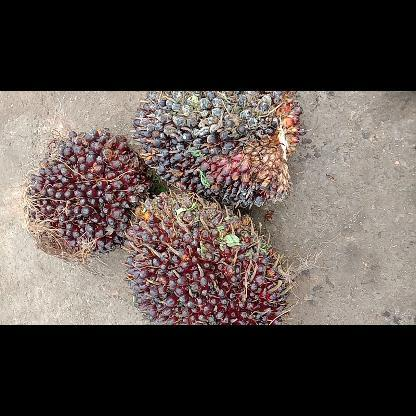Kurang masak: (124, 192, 290, 324), (21, 128, 149, 262)
TBS mentah: (132, 91, 304, 211)
